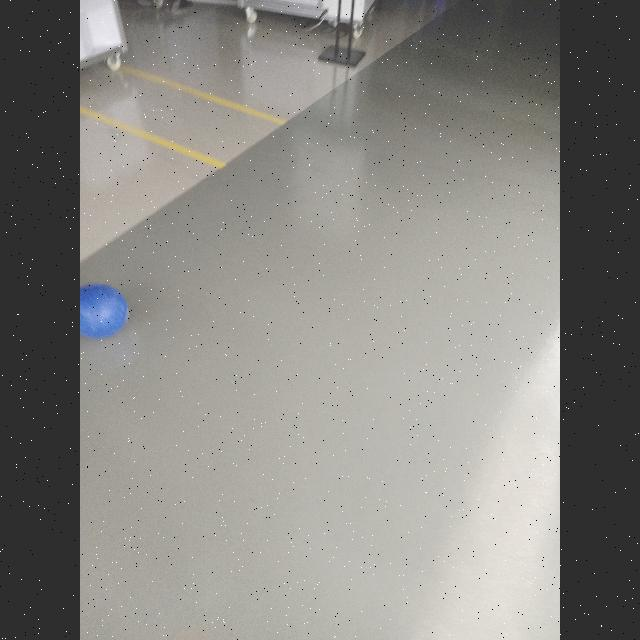B: (80, 284, 128, 340)
